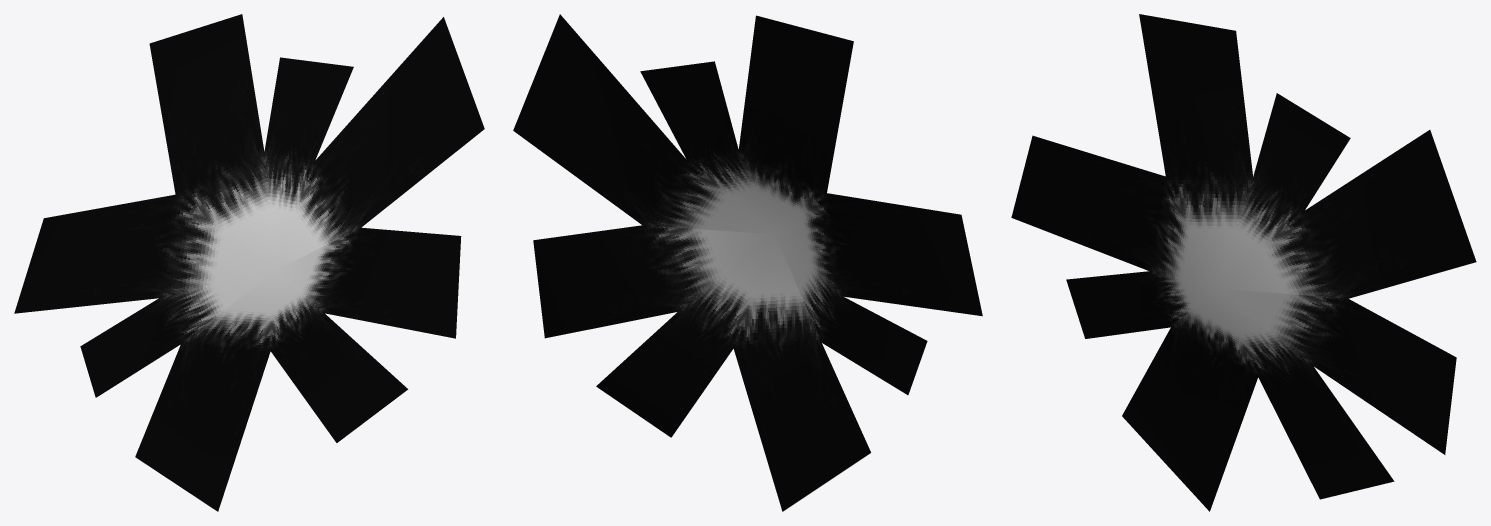
The model's file is efc_bari_modelT.obj.
3 renders of one model, left to right at view 1: azimuth 30°, elevation 25°; view 2: azimuth 150°, elevation 25°; view 3: azimuth 330°, elevation 25°, orthographic.
Parts seen in each view (by area): view 1: nodes_2__meshes[0]; view 2: nodes_2__meshes[0]; view 3: nodes_2__meshes[0].
Part boxes in pixels (x1,y1,x2,y2): nodes_2__meshes[0]: (14, 14, 484, 511); nodes_2__meshes[0]: (513, 14, 982, 511); nodes_2__meshes[0]: (1011, 14, 1476, 511).
Size of the model in its own units: 1182 by 1180 by 121.
1 material, 1 textured.
